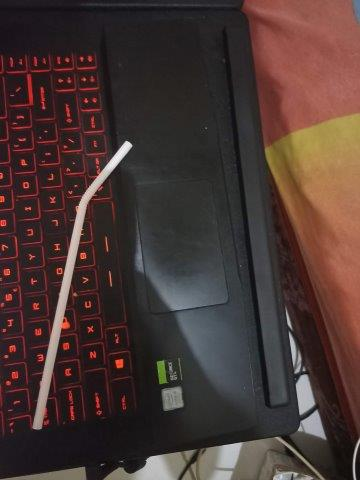sedotan: (32, 140, 132, 429)
